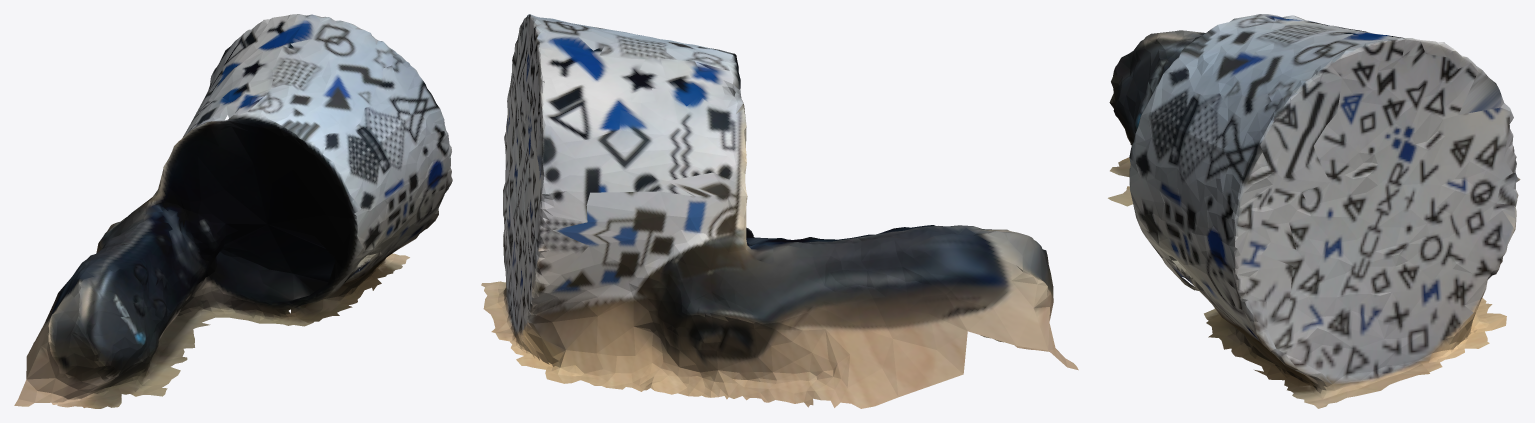
The model's file is SenseXR controller.glb.
3 views of the same model, side by side, from view 1: azimuth 30°, elevation 25°; view 2: azimuth 150°, elevation 25°; view 3: azimuth 270°, elevation 25° (orthographic). The views are drawn at different scales.
Visible parts, largest first — view 1: mesh; view 2: mesh; view 3: mesh.
Boxes of the visible parts, box(x1,y1,x2,y2) form: mesh: box(14, 14, 452, 408); mesh: box(481, 14, 1078, 408); mesh: box(1108, 14, 1520, 408).
Bounding box in the file's own units: 0.194 × 0.1007 × 0.1136.
1 material, 1 textured.
